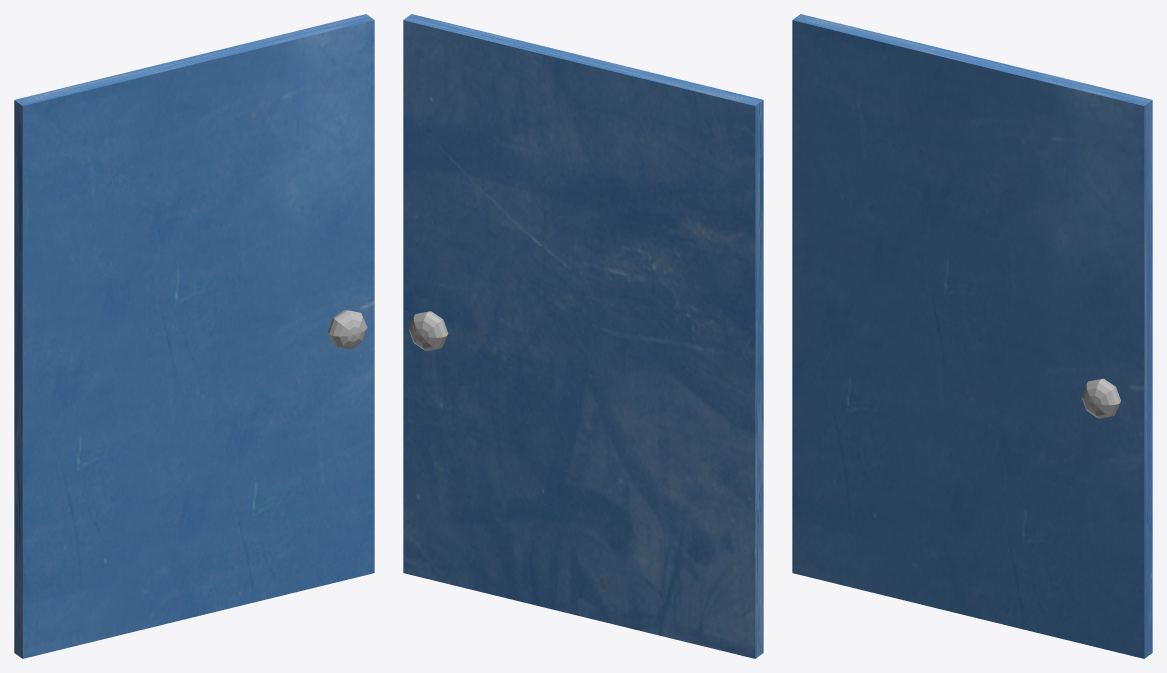
The model's file is Stairs_begin_door.fbx.
3 renders of one model, left to right at view 1: azimuth 30°, elevation 25°; view 2: azimuth 150°, elevation 25°; view 3: azimuth 330°, elevation 25°, orthographic.
Parts seen in each view (by area): view 1: Door; view 2: Door; view 3: Door.
Part boxes in pixels (x1,y1,x2,y2): Door: (14,14,374,658); Door: (403,14,763,658); Door: (792,14,1152,658).
Size of the model in its own units: 60 by 90 by 11.76.
